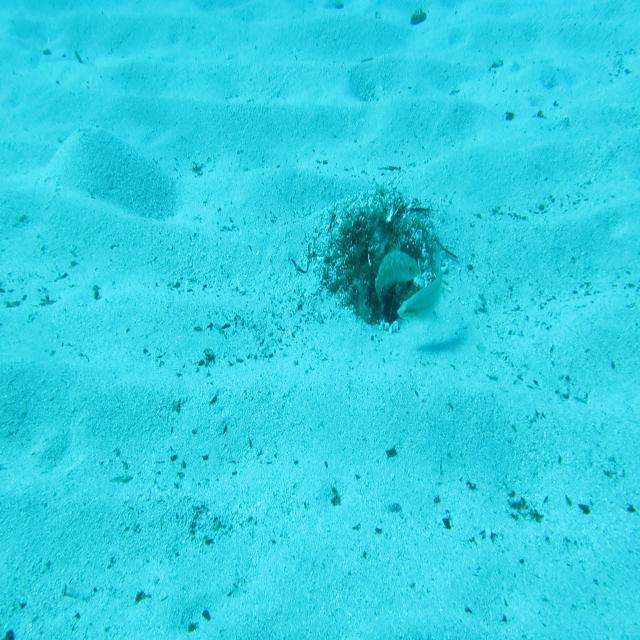DAN_CIRC: (374, 237, 423, 306)
female: (396, 250, 444, 323)
nest: (320, 176, 454, 319)
